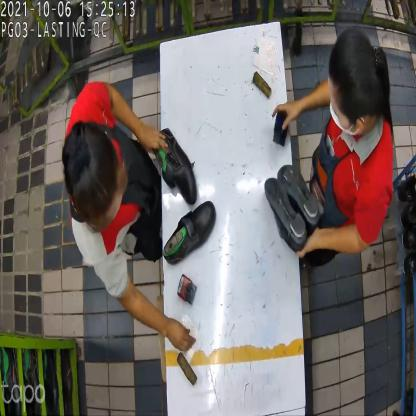shoes: (152, 127, 212, 260), (264, 162, 324, 246)
stamp: (269, 109, 291, 147), (177, 275, 199, 310)
